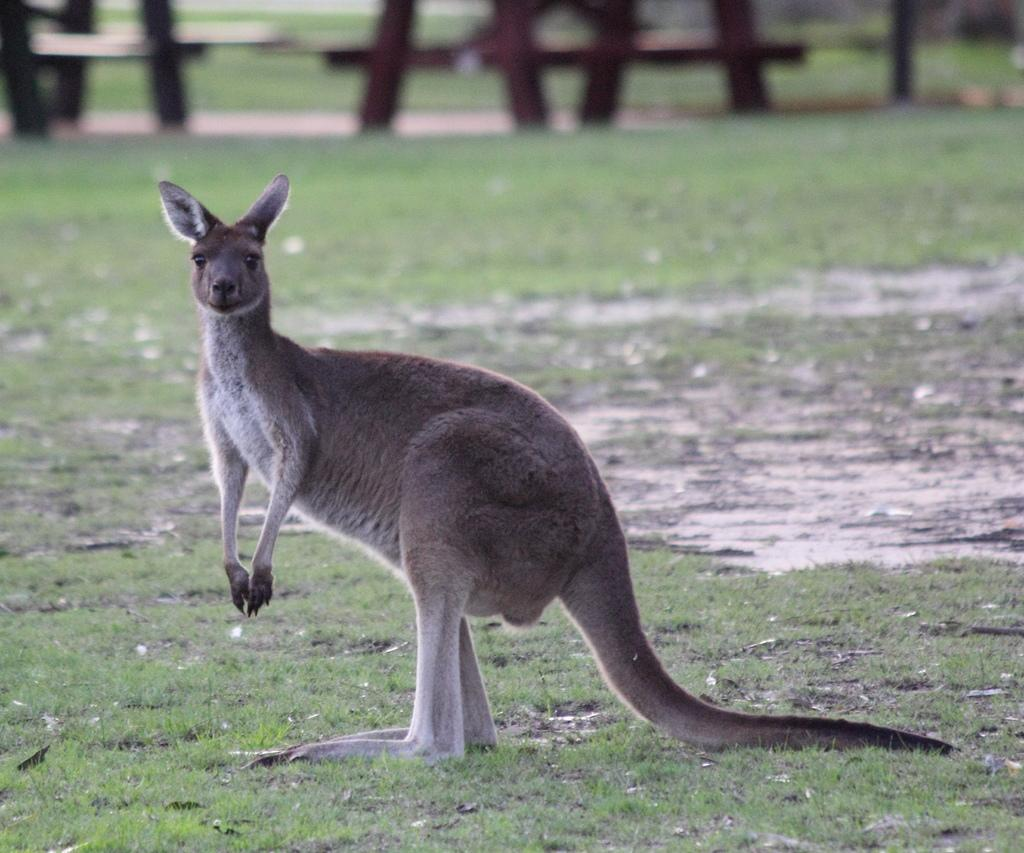kangaroo: (155, 174, 963, 762)
